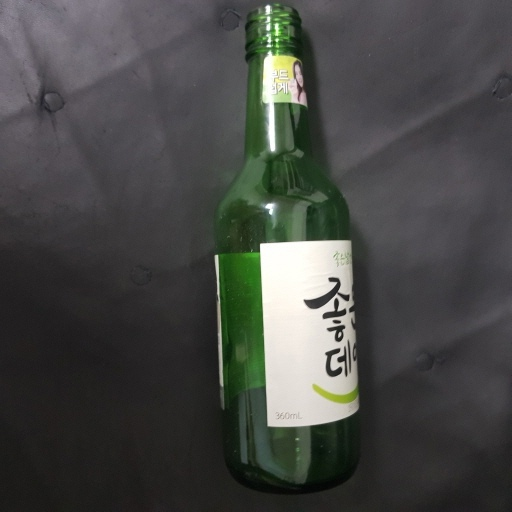Glass_0: (206, 7, 371, 489)
